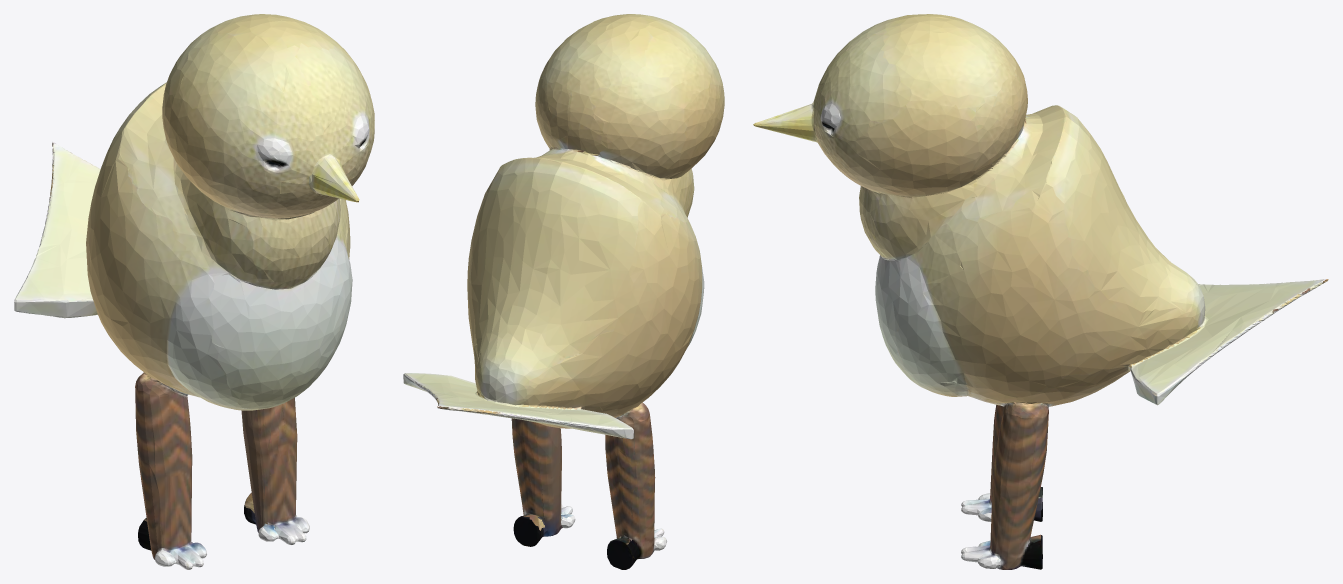
File: creature-075.lod.glb
The picture shows the model from 3 angles, left to right: view 1: azimuth 30°, elevation 25°; view 2: azimuth 150°, elevation 25°; view 3: azimuth 270°, elevation 25°; orthographic projection. The views are drawn at different scales.
Visible parts, largest first — view 1: tmp8ct7wd8g.ply; view 2: tmp8ct7wd8g.ply; view 3: tmp8ct7wd8g.ply.
Boxes of the visible parts, left/top/right/bottom form: tmp8ct7wd8g.ply: left=14, top=14, right=374, bottom=569; tmp8ct7wd8g.ply: left=403, top=14, right=724, bottom=569; tmp8ct7wd8g.ply: left=753, top=14, right=1328, bottom=569.
Bounding box in the file's own units: 0.9704 × 1.99 × 1.99.
Materials: 1 (1 with a texture image).
